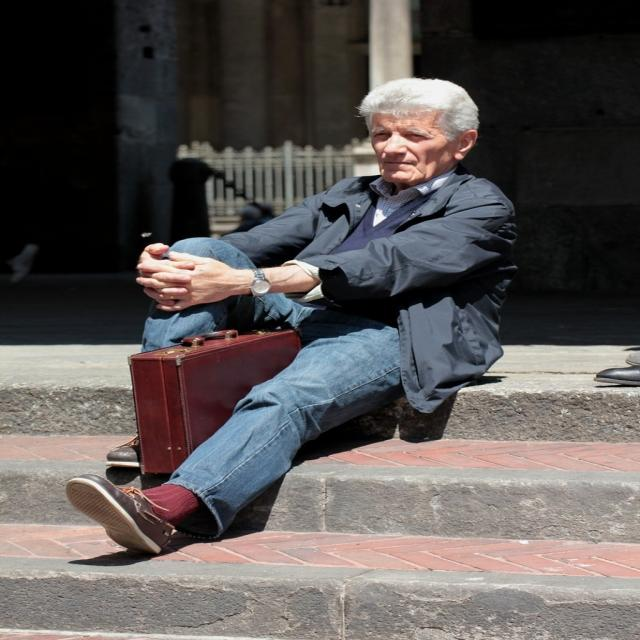idoso sentado: (87, 63, 543, 568)
